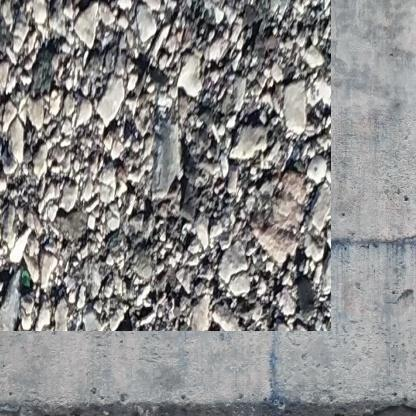Cracks: (0, 116, 6, 166)
